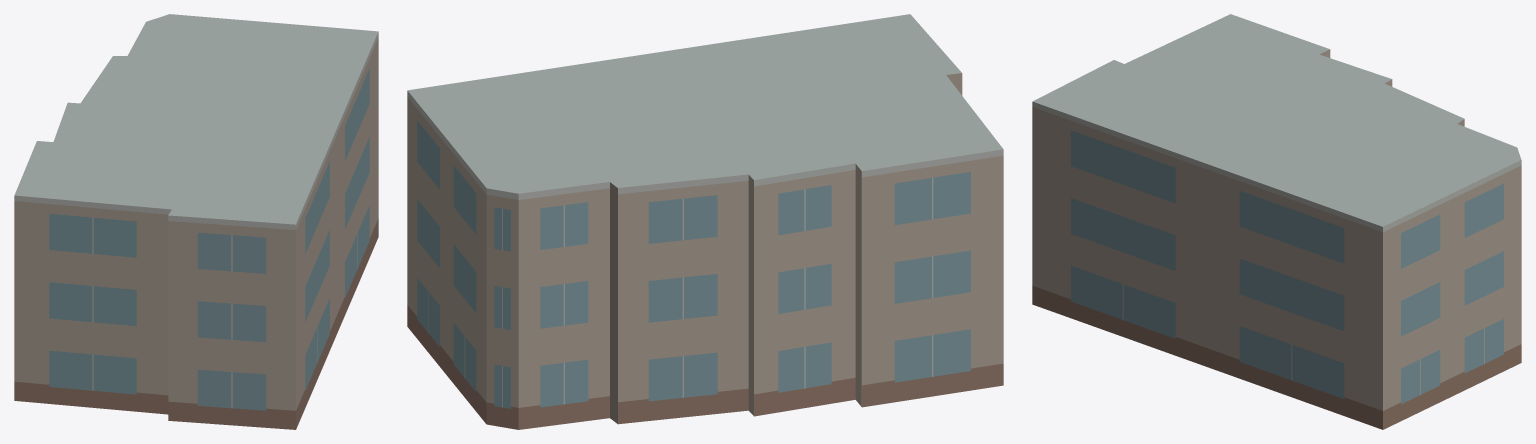
File: survey-upis-32885681.glb
3 views of the same model, side by side, from view 1: azimuth 30°, elevation 25°; view 2: azimuth 150°, elevation 25°; view 3: azimuth 270°, elevation 25° (orthographic). The views are drawn at different scales.
Parts seen in each view (by area): view 1: survey-upis-32885681.tmp; view 2: survey-upis-32885681.tmp; view 3: survey-upis-32885681.tmp.
Boxes of the visible parts, <box> form: survey-upis-32885681.tmp: <box>14,14,378,429</box>; survey-upis-32885681.tmp: <box>407,14,1003,429</box>; survey-upis-32885681.tmp: <box>1032,14,1521,429</box>.
Bounding box in the file's own units: 20.59 × 9.15 × 19.99.
